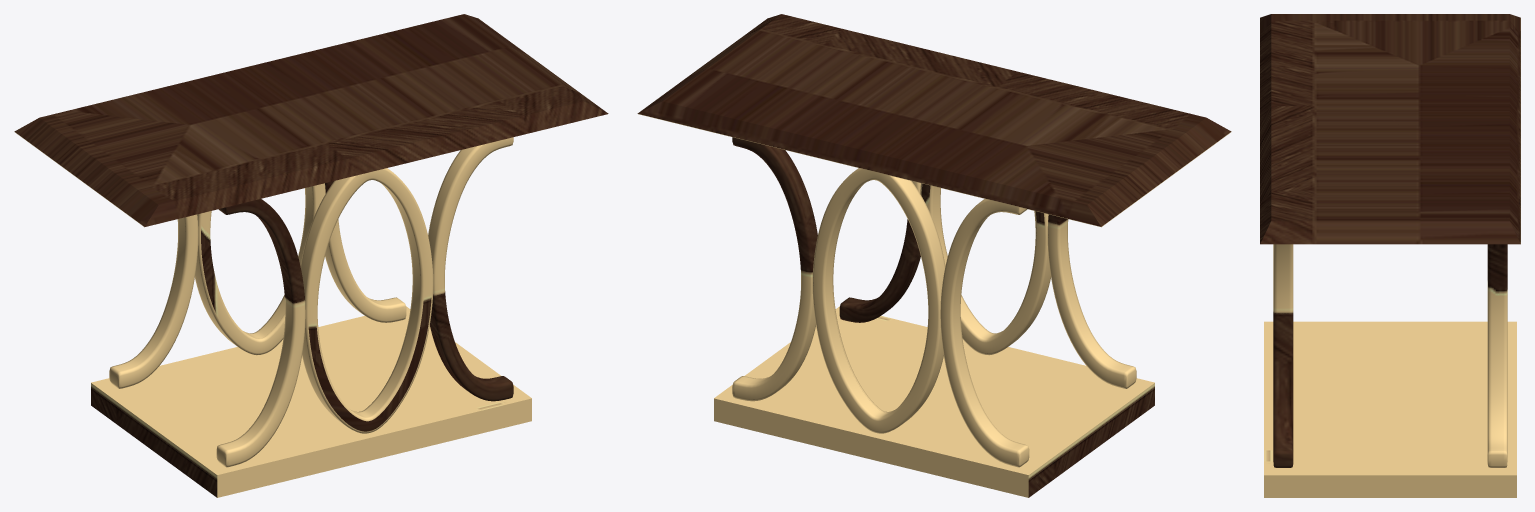
The model's file is Hinsdale_Console_table.fbx.
The picture shows the model from 3 angles, left to right: view 1: azimuth 30°, elevation 25°; view 2: azimuth 150°, elevation 25°; view 3: azimuth 270°, elevation 25°; orthographic projection.
Parts seen in each view (by area): view 1: Hinsdale Console Table; view 2: Hinsdale Console Table; view 3: Hinsdale Console Table.
Part boxes in pixels (x1=…): Hinsdale Console Table: x1=14, y1=14, x2=608, y2=497; Hinsdale Console Table: x1=637, y1=14, x2=1231, y2=497; Hinsdale Console Table: x1=1260, y1=14, x2=1520, y2=497.
Bounding box in the file's own units: 1.43 × 0.8926 × 0.6948.
